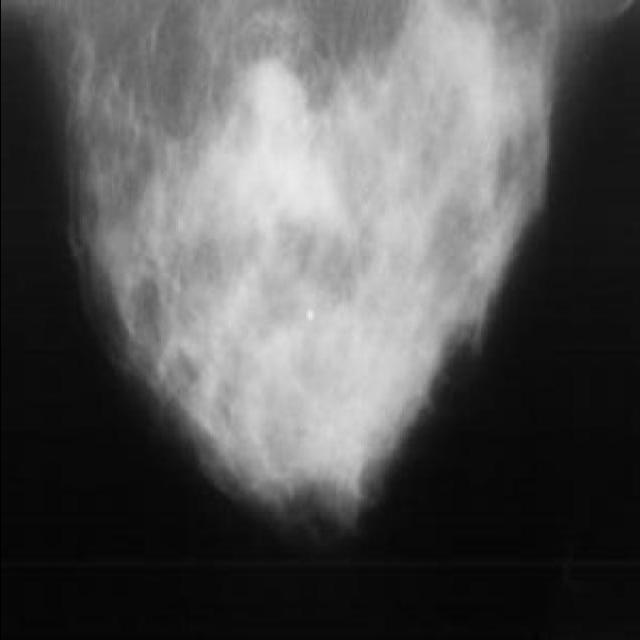tumor: (186, 50, 352, 462)
